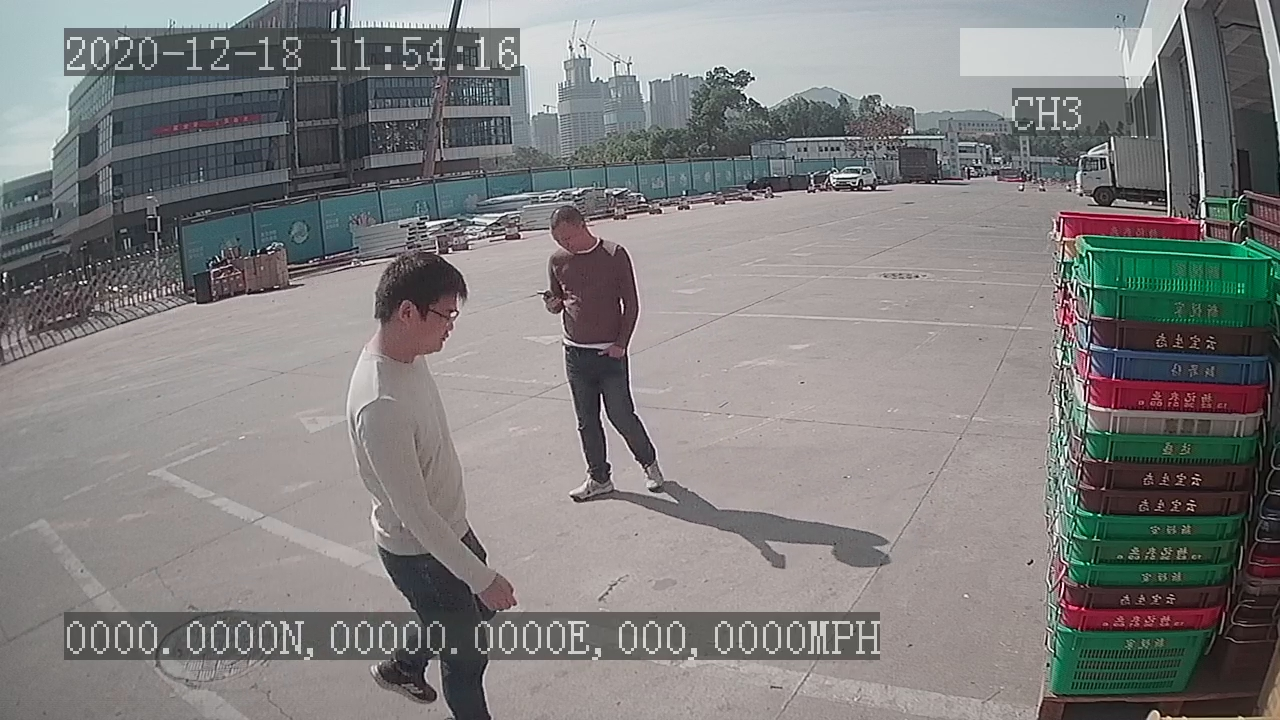person: (533, 197, 670, 506)
